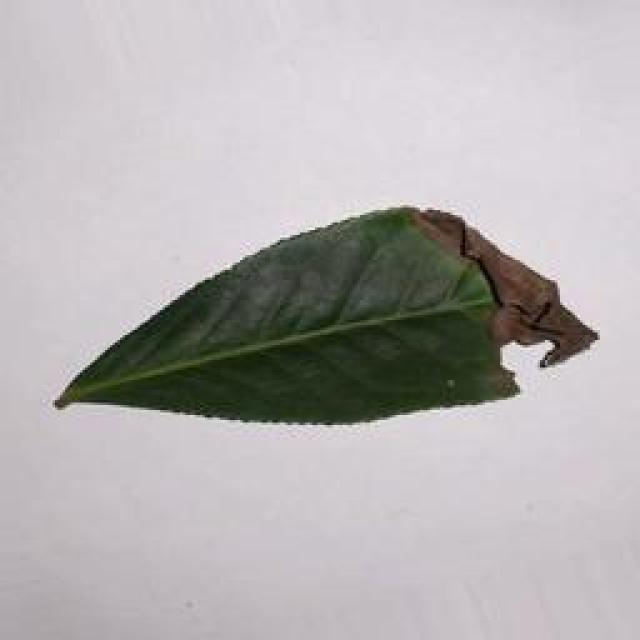Brown Blight: (41, 195, 596, 420)
